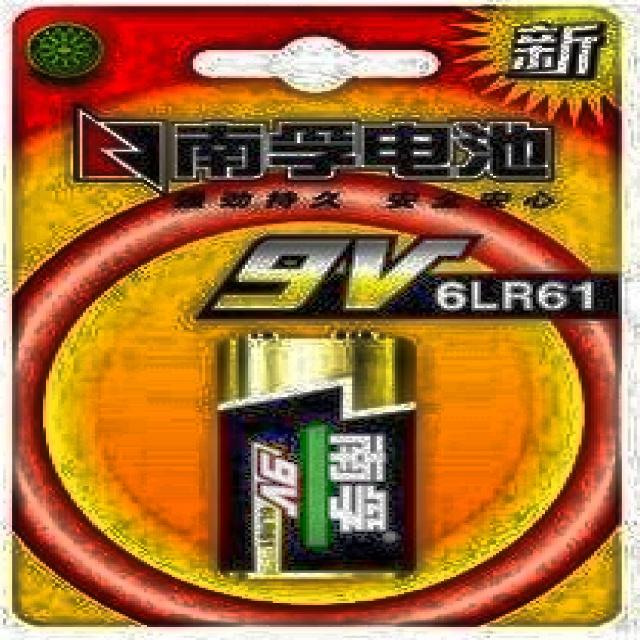Non-Valuable Waste - Batteries: (219, 334, 415, 576)
